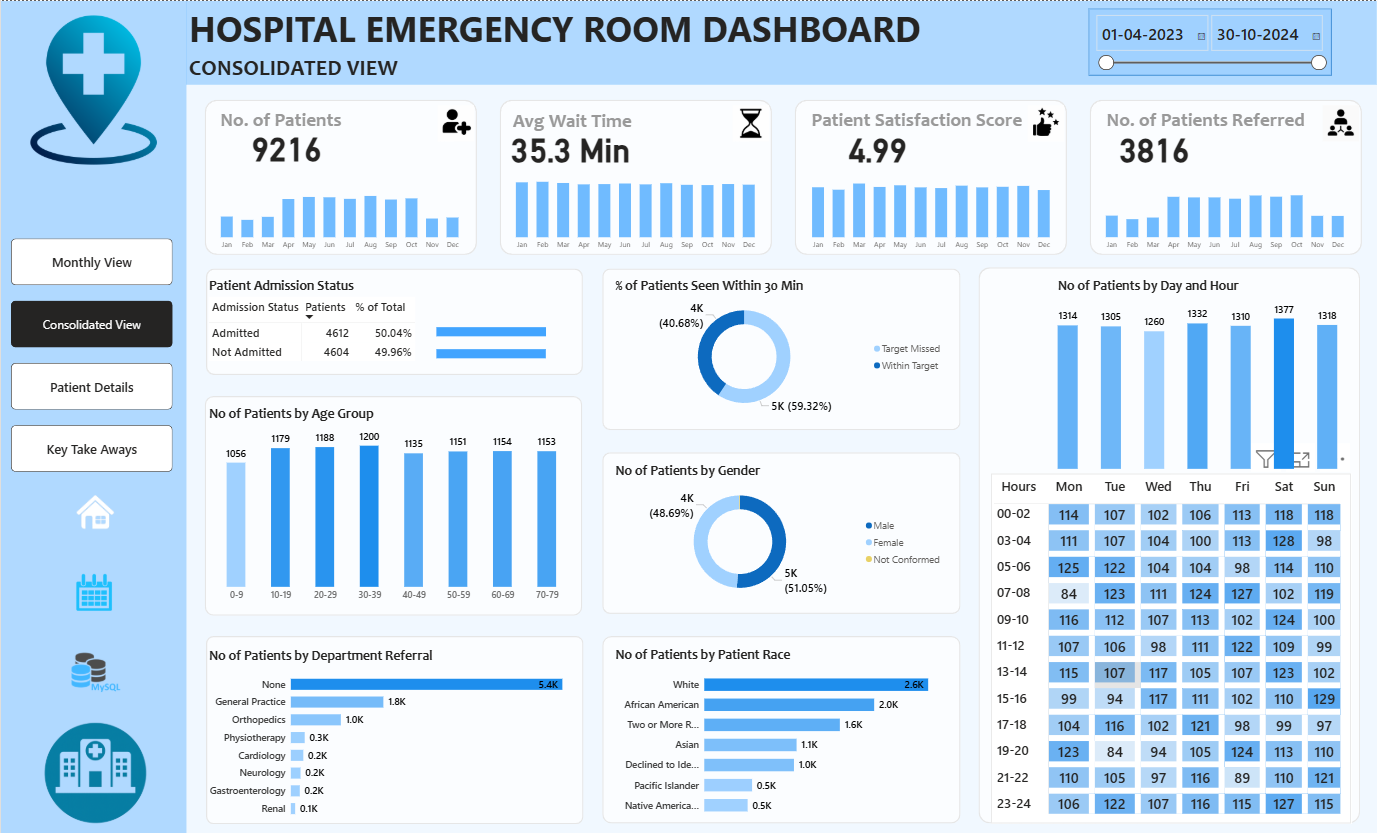

What the dashboard file says about the page in this screenshot:
{"tool":"powerbi","page":{"name":"Consolidated View","canvas":[2300,1400],"ordinal":1},"visuals":[{"type":"shape","box":[0,0,310,1400],"z":0},{"type":"shape","box":[309.5,0,1990.5,140],"z":1000},{"type":"textbox","box":[310,0,1246.6,112.1],"z":2000},{"type":"textbox","box":[310,83.5,373.7,57.2],"z":3000},{"type":"shape","box":[340.5,165.5,455,259.5],"z":4000},{"type":"card","fields":{"Values":["Hospital ER_Data.No of Patients"]},"box":[397.9,202.3,160.5,76.9],"z":5000},{"type":"slicer","fields":{"Values":["Date Table.Date"]},"box":[1818.2,13.2,406.7,112.1],"z":6000},{"type":"textbox","box":[361.9,173.8,226.2,57.1],"z":7000},{"type":"columnChart","fields":{"Category":["Date Table.Month Name"],"Y":["Hospital ER_Data.No of Patients"]},"box":[349.6,279.2,435.3,145.1],"z":8000},{"type":"shape","box":[833.3,165.5,455,259.5],"z":9000},{"type":"card","fields":{"Values":["Hospital ER_Data.Avg Wait Time"]},"box":[846.8,204.8,211.9,76.2],"z":10000},{"type":"textbox","box":[850,174.8,226.2,57.1],"z":11000},{"type":"columnChart","fields":{"Category":["Date Table.Month Name"],"Y":["Avg(Hospital ER_Data.Patient Waittime)"]},"box":[841.8,279.2,437.5,145.1],"z":12000},{"type":"shape","box":[1326.2,165.5,455,259.5],"z":13000},{"type":"card","fields":{"Values":["Hospital ER_Data.Satisfaction Score"]},"box":[1400.8,204.8,131,76.2],"z":14000},{"type":"textbox","box":[1350,173.8,411.9,57.1],"z":15000},{"type":"columnChart","fields":{"Category":["Date Table.Month Name"],"Y":["Hospital ER_Data.Satisfaction Score"]},"box":[1336.3,279.2,435.3,145.1],"z":16000},{"type":"shape","box":[1819,165.5,455,259.5],"z":17000},{"type":"card","fields":{"Values":["Hospital ER_Data.No of Patients Referred"]},"box":[1847.6,204.8,161.9,76.2],"z":18000},{"type":"textbox","box":[1842.9,173.8,385.7,57.1],"z":19000},{"type":"columnChart","fields":{"Category":["Date Table.Month Name"],"Y":["Hospital ER_Data.No of Patients Referred"]},"box":[1828.6,281,435.7,145],"z":20000},{"type":"shape","box":[343,446.3,630,178.1],"z":21000},{"type":"pivotTable","title":"Patient Admission Status","fields":{"Values":["Hospital ER_Data.No of Patients1","Hospital ER_Data.No of Patients"],"Rows":["Hospital ER_Data.Admission Status"]},"box":[343,461.7,622.2,162.7],"z":22000},{"type":"barChart","fields":{"Category":["Hospital ER_Data.Admission Status"],"Y":["Hospital ER_Data.No of Patients"]},"box":[723.3,514.4,248.4,109.9],"z":23000},{"type":"shape","box":[340.8,659.6,631,367.2],"z":24000},{"type":"clusteredColumnChart","fields":{"Category":["Hospital ER_Data.Age Group"],"Y":["Hospital ER_Data.No of Patients"]},"box":[343,674.9,622.2,338.6],"z":25000},{"type":"shape","box":[343,1061.9,631,314.4],"z":26000},{"type":"clusteredBarChart","fields":{"Category":["Hospital ER_Data.Department Referral"],"Y":["Hospital ER_Data.No of Patients"]},"box":[343,1079.5,628.8,296.8],"z":27000},{"type":"shape","box":[1004.3,447.5,598.9,270.3],"z":28000},{"type":"donutChart","title":"% of Patients Seen Within 30 Min","fields":{"Category":["Hospital ER_Data.Waittime Status"],"Y":["Hospital ER_Data.No of Patients"]},"box":[1022.7,462.7,562.1,237.8],"z":29000},{"type":"shape","box":[1005.4,754.6,598.9,270.3],"z":30000},{"type":"donutChart","title":"No of Patients by Gender","fields":{"Y":["Hospital ER_Data.No of Patients"],"Category":["Hospital ER_Data.Patient Gender"]},"box":[1022.7,770.8,562.1,237.8],"z":31000},{"type":"shape","box":[1005.4,1061.6,598.9,313.5],"z":32000},{"type":"clusteredBarChart","fields":{"Y":["Hospital ER_Data.No of Patients"],"Category":["Hospital ER_Data.Patient Race"]},"box":[1022.7,1078.9,562.1,296.2],"z":33000},{"type":"shape","box":[1634.5,445.4,637.8,929.7],"z":34000},{"type":"pivotTable","fields":{"Rows":["Hospital ER_Data.Waittime Interval"],"Columns":["Date Table.Day Name"],"Values":["Hospital ER_Data.No of Patients"]},"box":[1654,789.2,603.2,585.9],"z":35000},{"type":"columnChart","title":"No of Patients by Day and Hour","fields":{"Category":["Date Table.Day Name"],"Y":["Hospital ER_Data.No of Patients"]},"box":[1762.1,462.7,480,326.5],"z":36000},{"type":"image","box":[0,19.8,310,260],"z":37000},{"type":"image","box":[1710.4,169.3,70.4,70.4],"z":38000},{"type":"image","box":[2205.1,169.3,70.4,70.4],"z":39000},{"type":"image","box":[725.5,169.3,70.4,70.4],"z":40000},{"type":"image","box":[1218,169.3,70.4,70.4],"z":41000},{"type":"image","box":[83.5,809,145.1,101.1],"z":42000},{"type":"pageNavigator","box":[17.6,397.9,270.4,391.3],"z":43000},{"type":"image","box":[76.9,919,156.1,142.9],"z":44000},{"type":"image","box":[107.7,1081.7,98.9,79.1],"z":45000},{"type":"actionButton","box":[105.5,811.2,98.9,79.1],"z":46000},{"type":"actionButton","box":[105.5,946.8,98.9,79.1],"z":47000},{"type":"actionButton","box":[105.5,1082.4,98.9,79.1],"z":48000},{"type":"image","box":[52.8,1182.3,211.1,217.7],"z":49000}]}

Visuals, with their boxes in screenshot pixels (x1, y1, x2, y2), scaled from the page's 2300x1400 canvas onto the 1377x833 screenshot:
shape: region(0, 0, 186, 832)
shape: region(185, 0, 1376, 83)
textbox: region(186, 0, 932, 67)
textbox: region(186, 50, 409, 84)
shape: region(204, 98, 476, 253)
card - Hospital ER_Data.No of Patients: region(238, 120, 334, 166)
slicer - Date Table.Date: region(1089, 8, 1332, 75)
textbox: region(217, 103, 352, 137)
columnChart - Date Table.Month Name x Hospital ER_Data.No of Patients: region(209, 166, 470, 252)
shape: region(499, 98, 771, 253)
card - Hospital ER_Data.Avg Wait Time: region(507, 122, 634, 167)
textbox: region(509, 104, 644, 138)
columnChart - Date Table.Month Name x Avg(Hospital ER_Data.Patient Waittime): region(504, 166, 766, 252)
shape: region(794, 98, 1066, 253)
card - Hospital ER_Data.Satisfaction Score: region(839, 122, 917, 167)
textbox: region(808, 103, 1055, 137)
columnChart - Date Table.Month Name x Hospital ER_Data.Satisfaction Score: region(800, 166, 1061, 252)
shape: region(1089, 98, 1361, 253)
card - Hospital ER_Data.No of Patients Referred: region(1106, 122, 1203, 167)
textbox: region(1103, 103, 1334, 137)
columnChart - Date Table.Month Name x Hospital ER_Data.No of Patients Referred: region(1095, 167, 1356, 253)
shape: region(205, 266, 583, 372)
"Patient Admission Status" pivotTable: region(205, 275, 578, 372)
barChart - Hospital ER_Data.Admission Status x Hospital ER_Data.No of Patients: region(433, 306, 582, 371)
shape: region(204, 392, 582, 611)
clusteredColumnChart - Hospital ER_Data.Age Group x Hospital ER_Data.No of Patients: region(205, 402, 578, 603)
shape: region(205, 632, 583, 819)
clusteredBarChart - Hospital ER_Data.Department Referral x Hospital ER_Data.No of Patients: region(205, 642, 582, 819)
shape: region(601, 266, 960, 427)
"% of Patients Seen Within 30 Min" donutChart: region(612, 275, 949, 417)
shape: region(602, 449, 960, 610)
"No of Patients by Gender" donutChart: region(612, 459, 949, 600)
shape: region(602, 632, 960, 818)
clusteredBarChart - Hospital ER_Data.No of Patients x Hospital ER_Data.Patient Race: region(612, 642, 949, 818)
shape: region(979, 265, 1360, 818)
pivotTable - Hospital ER_Data.Waittime Interval x Date Table.Day Name: region(990, 470, 1351, 818)
"No of Patients by Day and Hour" columnChart: region(1055, 275, 1342, 470)
image: region(0, 12, 186, 166)
image: region(1024, 101, 1066, 143)
image: region(1320, 101, 1362, 143)
image: region(434, 101, 477, 143)
image: region(729, 101, 771, 143)
image: region(50, 481, 137, 542)
pageNavigator: region(11, 237, 172, 470)
image: region(46, 547, 139, 632)
image: region(64, 644, 124, 691)
actionButton: region(63, 483, 122, 530)
actionButton: region(63, 563, 122, 610)
actionButton: region(63, 644, 122, 691)
image: region(32, 703, 158, 832)
